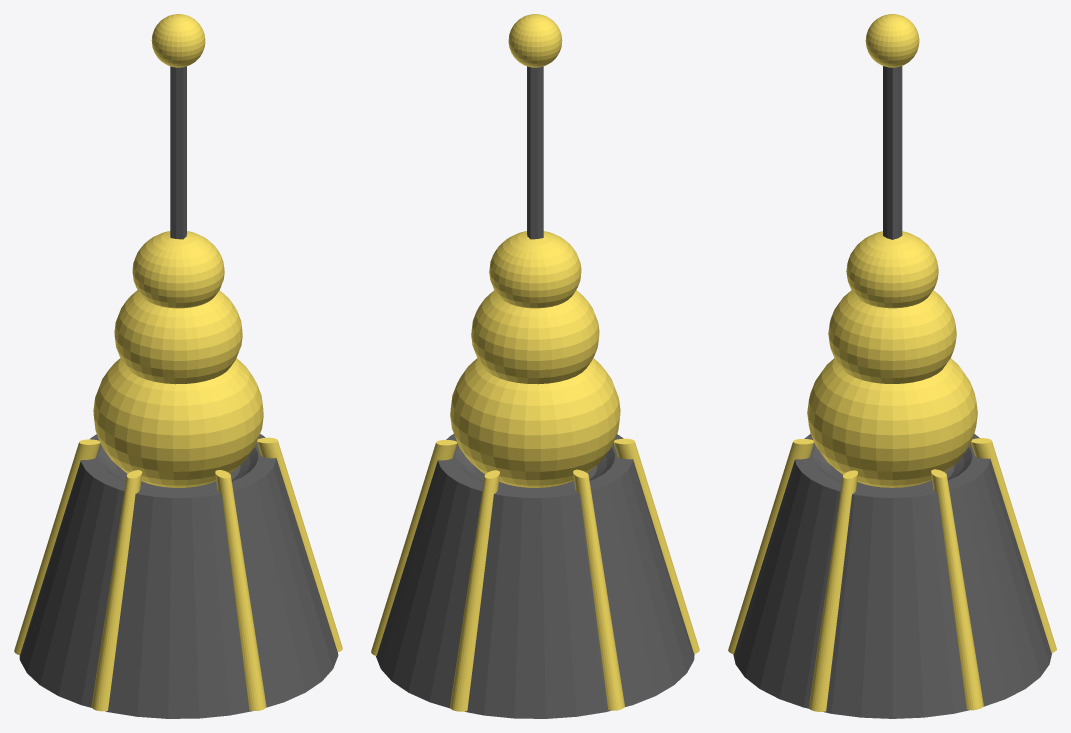
File: LazerGun.fbx
3 renders of one model, left to right at view 1: azimuth 30°, elevation 25°; view 2: azimuth 150°, elevation 25°; view 3: azimuth 270°, elevation 25°, orthographic.
Visible parts, largest first — view 1: Cylinder, Sphere.001, Cylinder.001, Sphere.002, Sphere.003, Cube, Sphere; view 2: Cylinder, Sphere.001, Cylinder.001, Sphere.002, Sphere.003, Cube, Sphere; view 3: Cylinder, Sphere.001, Cylinder.001, Sphere.002, Sphere.003, Cube, Sphere.
Part boxes in pixels (x1=…): Cylinder: x1=19, y1=434, x2=338, y2=718; Sphere.001: x1=93, y1=358, x2=263, y2=487; Cylinder.001: x1=14, y1=437, x2=342, y2=711; Sphere.002: x1=114, y1=290, x2=242, y2=384; Sphere.003: x1=132, y1=231, x2=224, y2=308; Cube: x1=170, y1=66, x2=186, y2=239; Sphere: x1=151, y1=14, x2=205, y2=67; Cylinder: x1=376, y1=434, x2=694, y2=718; Sphere.001: x1=450, y1=358, x2=620, y2=487; Cylinder.001: x1=371, y1=438, x2=699, y2=711; Sphere.002: x1=471, y1=290, x2=599, y2=384; Sphere.003: x1=489, y1=231, x2=581, y2=308; Cube: x1=527, y1=66, x2=543, y2=239; Sphere: x1=508, y1=14, x2=562, y2=67; Cylinder: x1=733, y1=433, x2=1051, y2=718; Sphere.001: x1=807, y1=358, x2=977, y2=487; Cylinder.001: x1=728, y1=438, x2=1056, y2=711; Sphere.002: x1=828, y1=290, x2=956, y2=383; Sphere.003: x1=846, y1=231, x2=938, y2=308; Cube: x1=883, y1=66, x2=902, y2=239; Sphere: x1=865, y1=14, x2=919, y2=67.
Size of the model in its own units: 226 by 495 by 232.
